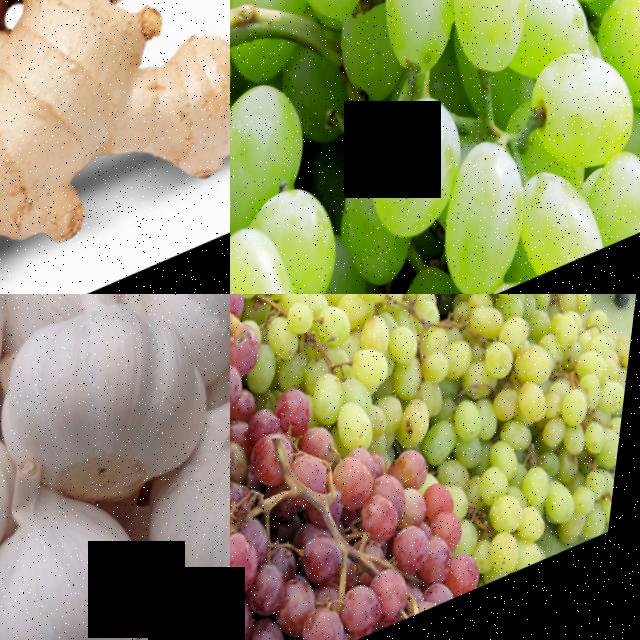garlic: (0, 294, 230, 531), (0, 487, 188, 640), (123, 384, 230, 640), (108, 294, 230, 360)
ginger: (0, 0, 230, 294)
grapes: (230, 0, 640, 294), (275, 404, 514, 640), (230, 316, 375, 640), (230, 42, 407, 294), (253, 294, 498, 469), (451, 377, 638, 597), (417, 294, 625, 431)
